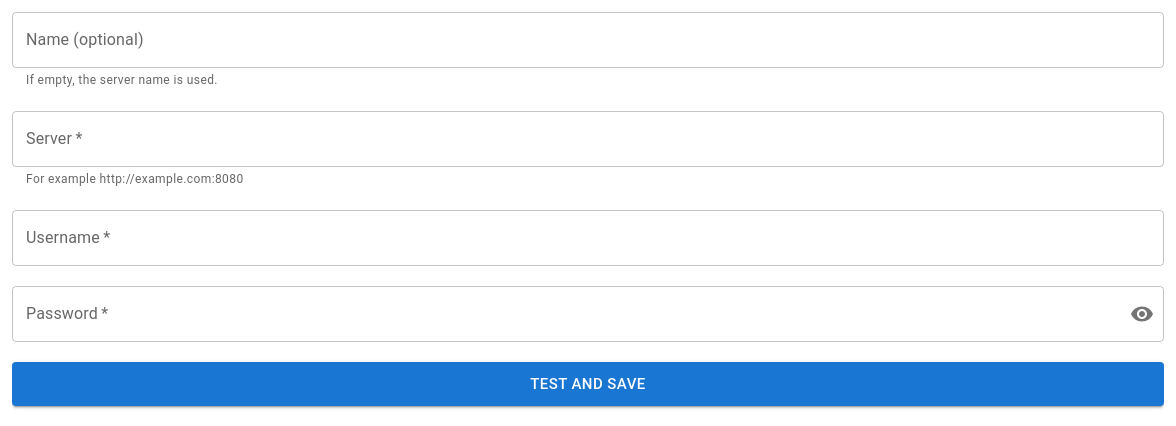
Test: SRC-03 AC4 — field attributes and the password toggle › show/hide toggle: accessible name, aria-pressed, keyboard operable
This screenshot has width=1176, height=426.
Type "testpass" into the password field labelled "Password".
click(563, 314); type("testpass")  # box [12,286,1114,342]
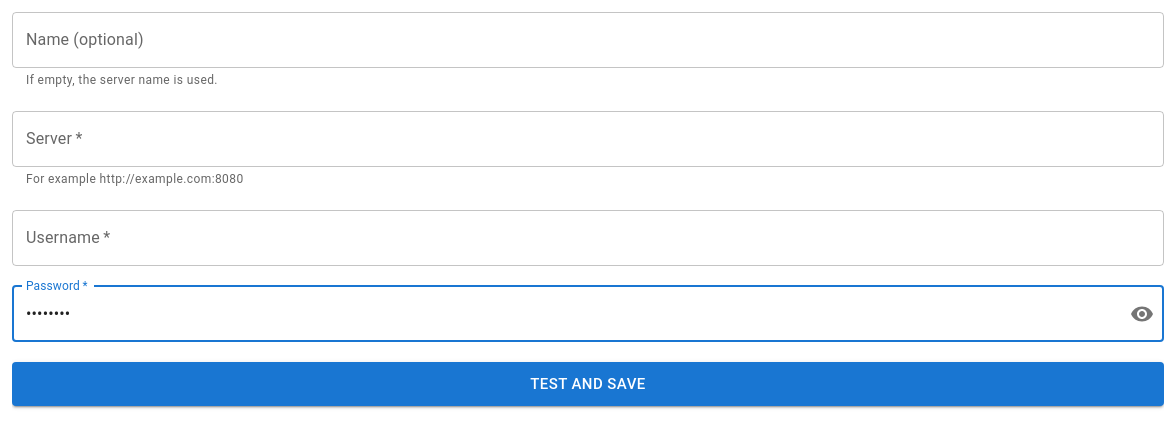
Click the button named "Show password".
click(1142, 314)  # box [1122,294,1162,334]
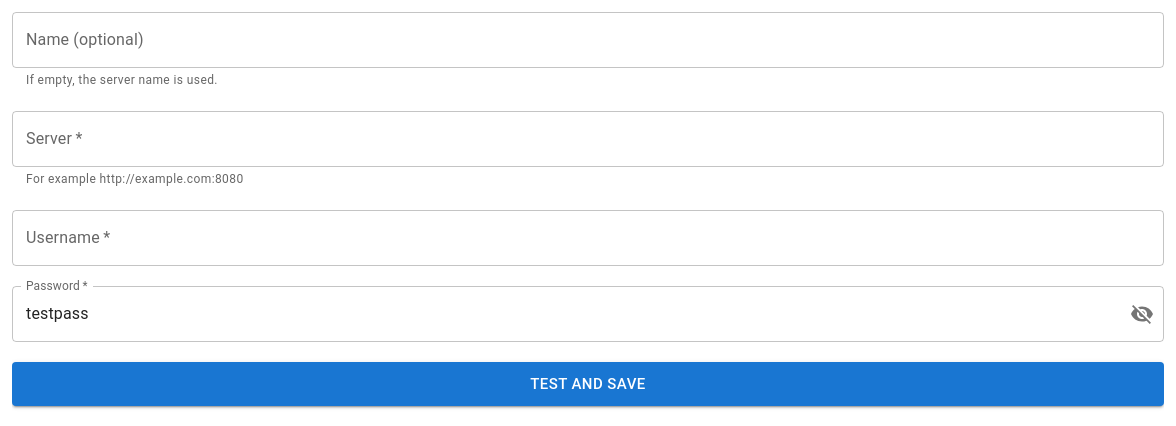
Check: the field labelled "Password" shows its text, box [12,286,1114,342]
Press Enter
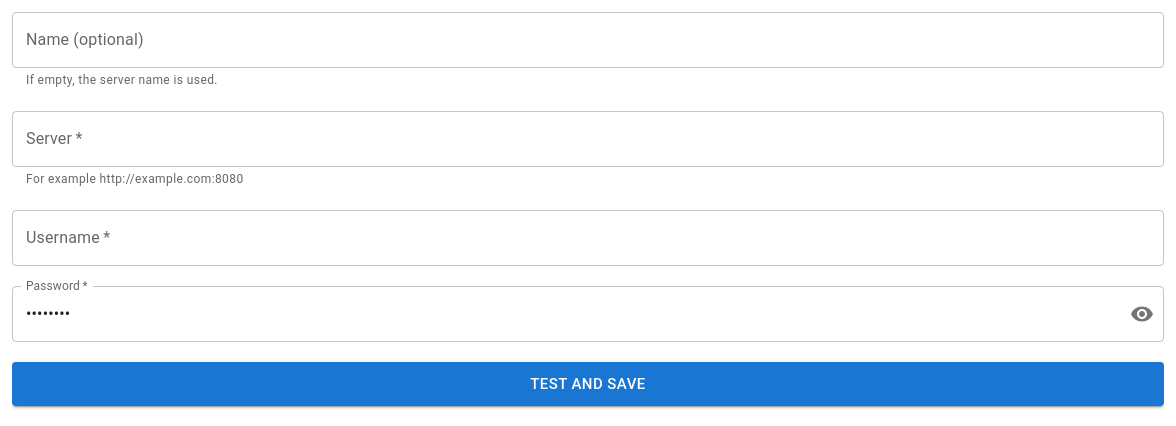
Check: the password field labelled "Password" hides its text, box [12,286,1114,342]
